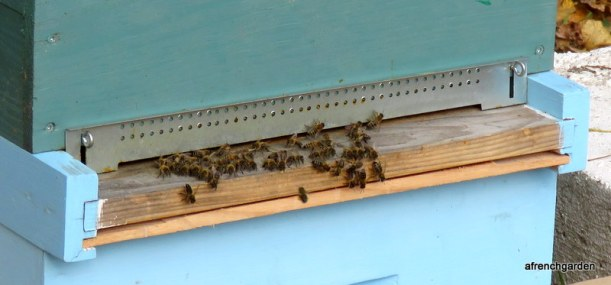bee: (166, 147, 252, 175), (341, 123, 377, 158), (345, 161, 366, 191), (262, 152, 290, 171), (230, 155, 255, 174), (309, 146, 338, 158), (308, 159, 332, 173), (370, 163, 388, 181), (183, 188, 198, 207), (368, 113, 383, 130), (208, 170, 220, 189), (297, 189, 310, 205), (157, 164, 171, 178), (310, 124, 324, 137)
